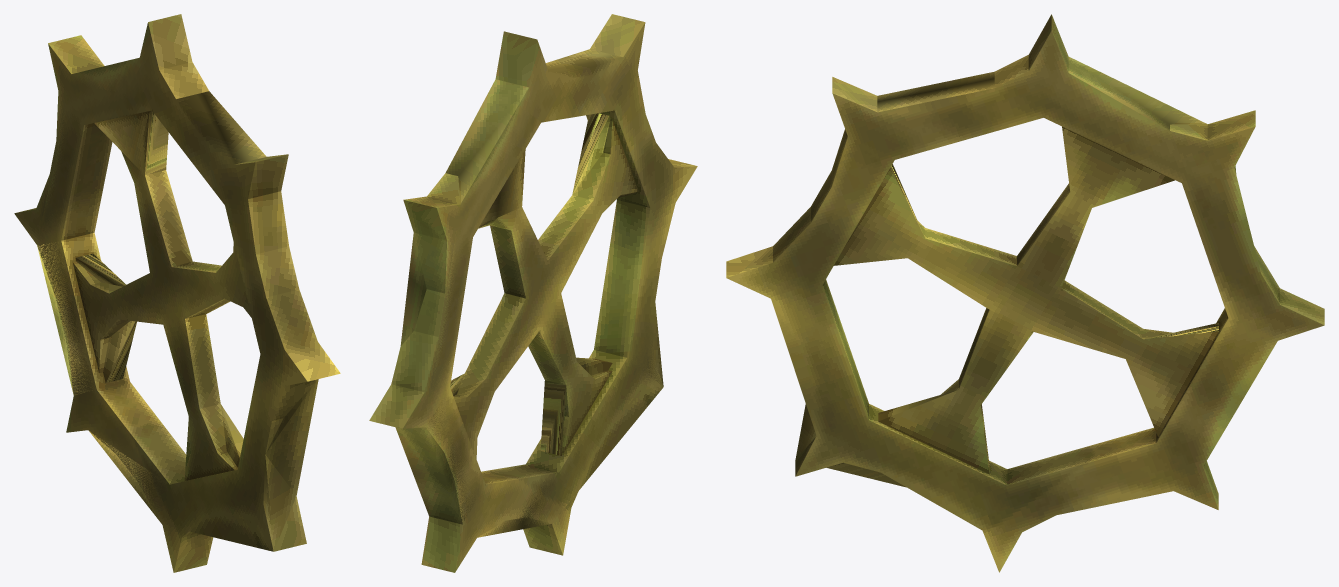
Rendered from item_steampunk_gear_spikes_small.glb.
3 renders of one model, left to right at view 1: azimuth 30°, elevation 25°; view 2: azimuth 150°, elevation 25°; view 3: azimuth 270°, elevation 25°, orthographic.
Parts seen in each view (by area): view 1: gearSpikes.001; view 2: gearSpikes.001; view 3: gearSpikes.001.
Boxes of the visible parts, left/top/right/bottom form: gearSpikes.001: left=14, top=14, right=340, bottom=572; gearSpikes.001: left=369, top=14, right=697, bottom=572; gearSpikes.001: left=726, top=14, right=1324, bottom=572.
Size of the model in its own units: 0.0212 by 0.3243 by 0.3243.
1 material, 1 textured.
